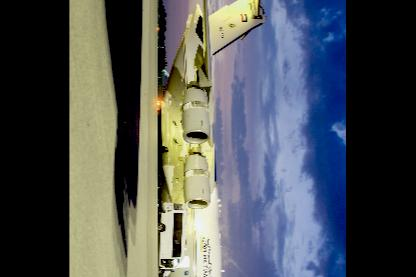C2: (158, 0, 268, 276)
